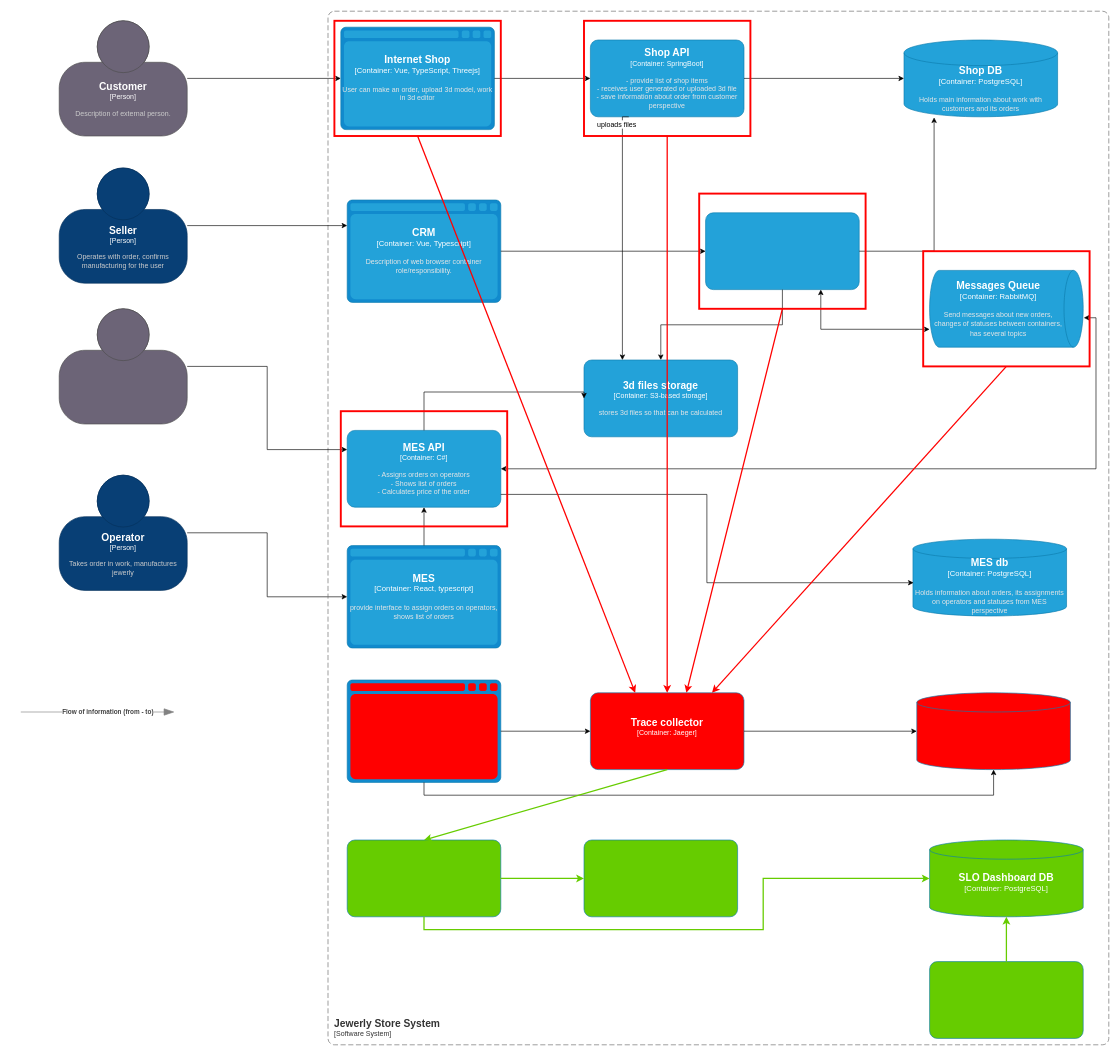
The diagram is 1120 pixels wide and 1056 high, and some of its shapes have lost their labels. The shapes that lost their labels are listed below. From the top down, each one's centre as x and y in pixels, then its label:
(x=782, y=251): CRM API [Container: SpringBoot] Description of container role/responsibility.
(x=123, y=366): API user [Person] Description of external person.
(x=424, y=730): Trace UI [Container: Jaeger Query]
(x=993, y=731): Trace storage [Container: Elasticsearch]
(x=424, y=878): Trace analyzer [Container: Python ]
(x=660, y=878): Business Alert Manager [Container: Go]
(x=1006, y=999): SLO Dashboard [Container: Grafana]
